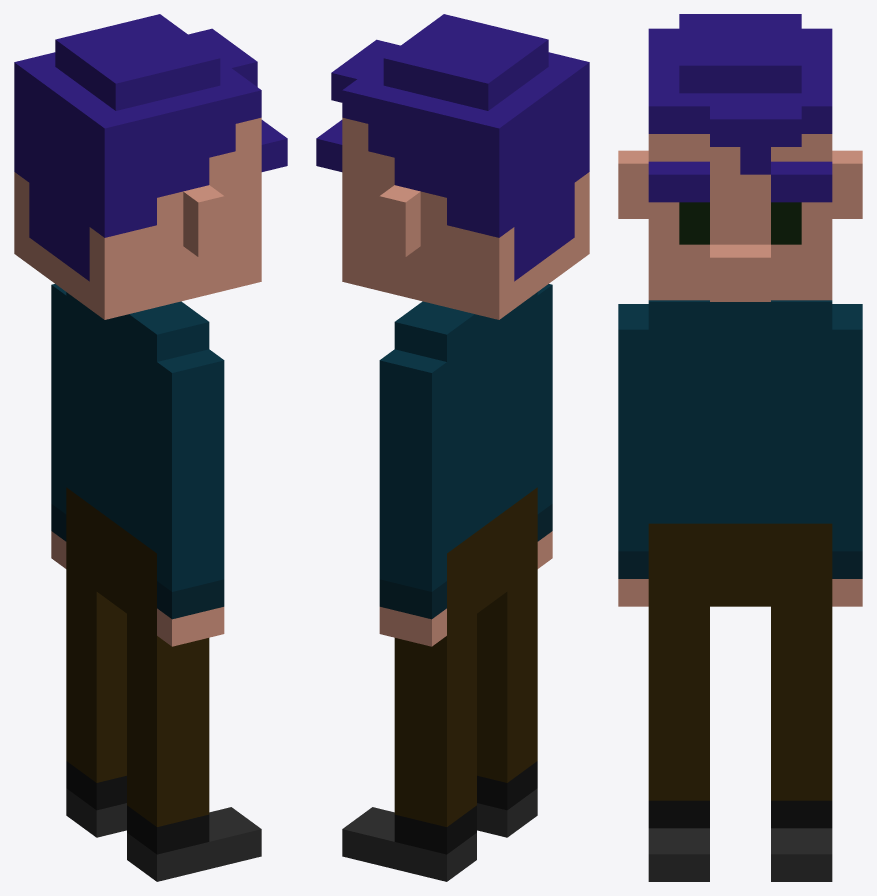
File: Char22.gltf
3 renders of one model, left to right at view 1: azimuth 30°, elevation 25°; view 2: azimuth 150°, elevation 25°; view 3: azimuth 270°, elevation 25°, orthographic.
Visible parts, largest first — view 1: Head, Torso, ArmR1, ArmR2, LegR2, LegR1, Pelvis, LegL2, LegL1, FootR, ArmL1, ArmL2 (+1 smaller); view 2: Head, Torso, ArmL1, ArmL2, LegL2, LegL1, Pelvis, LegR2, LegR1, FootL, ArmR1, ArmR2 (+1 smaller); view 3: Head, Torso, Pelvis, LegL1, LegR1, LegL2, LegR2, ArmL1, ArmR1, ArmL2, ArmR2, FootR (+1 smaller).
Part boxes in pixels (x1,y1,x2,y2): Head: (14, 14, 287, 319); Torso: (66, 292, 209, 553); ArmR1: (157, 349, 224, 509); ArmR2: (157, 497, 224, 646); LegR2: (127, 723, 209, 854); LegR1: (127, 614, 209, 744); Pelvis: (66, 487, 156, 635); LegL2: (66, 679, 126, 810); LegL1: (66, 569, 126, 700); FootR: (127, 807, 261, 881); ArmL1: (51, 284, 66, 431); ArmL2: (51, 422, 66, 568); Head: (316, 14, 589, 319); Torso: (394, 292, 537, 553); ArmL1: (379, 349, 446, 509); ArmL2: (379, 497, 446, 646); LegL2: (394, 723, 476, 854); LegL1: (394, 614, 476, 744); Pelvis: (447, 487, 537, 635); LegR2: (477, 679, 537, 810); LegR1: (477, 569, 537, 700); FootL: (342, 807, 476, 881); ArmR1: (537, 284, 552, 431); ArmR2: (537, 422, 552, 568); Head: (618, 14, 862, 301); Torso: (648, 300, 832, 523); Pelvis: (648, 523, 832, 606); LegL1: (771, 606, 832, 717); LegR1: (648, 606, 709, 717); LegL2: (771, 717, 832, 828); LegR2: (648, 717, 709, 828); ArmL1: (832, 304, 862, 468); ArmR1: (618, 304, 648, 468); ArmL2: (832, 468, 862, 606); ArmR2: (618, 468, 648, 606); FootR: (648, 828, 709, 881).
Bounding box in the file's own units: 7 × 29 × 8.
